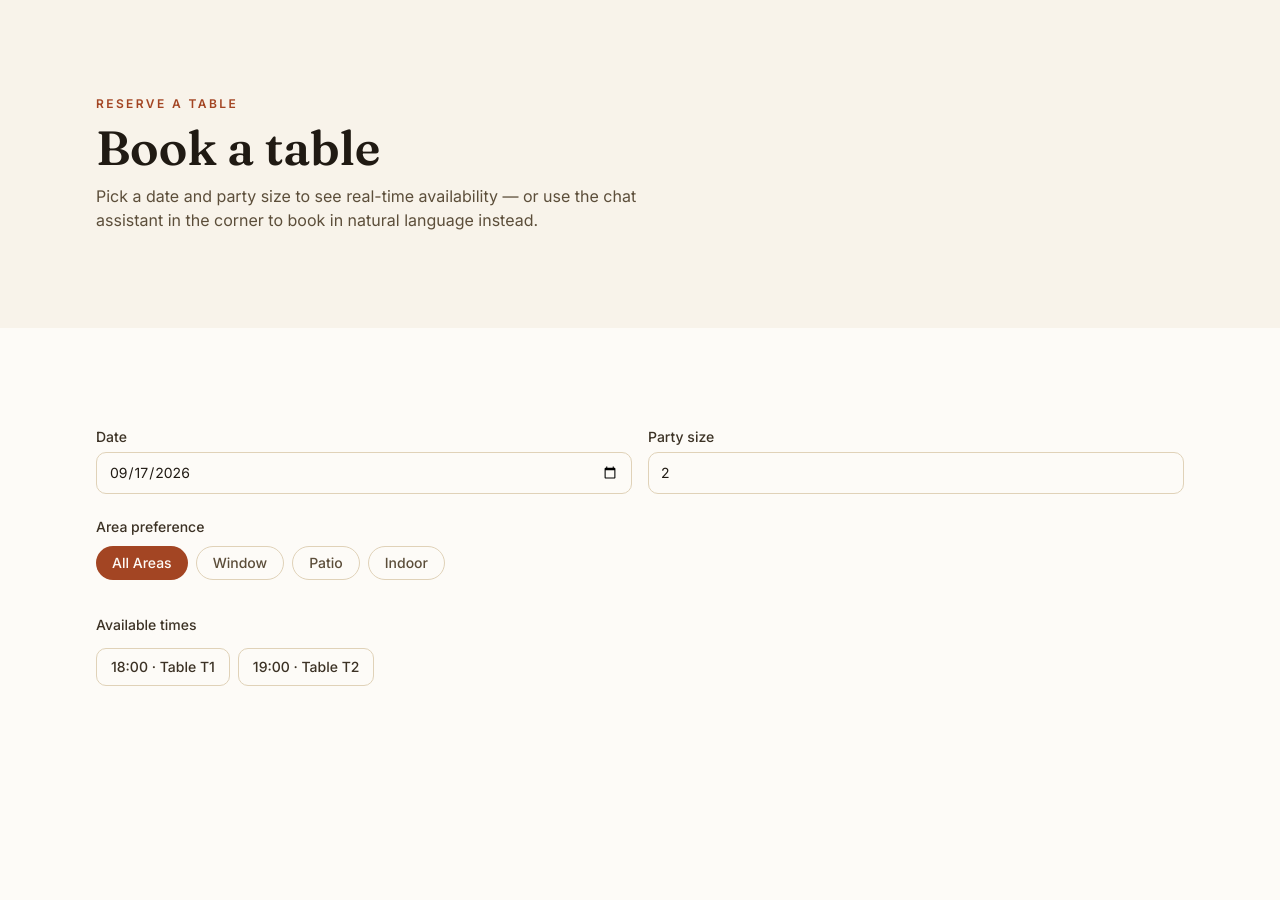
Scenario: Book a table flow › filters slot chips by area preference
Expected: the button "18:00 · Table T1" is shown, [96, 648, 230, 686]
What coordinates should you click on to do the following:
click the button "patio"
I would click on:
 (326, 563)
Its box is [292, 546, 360, 580].
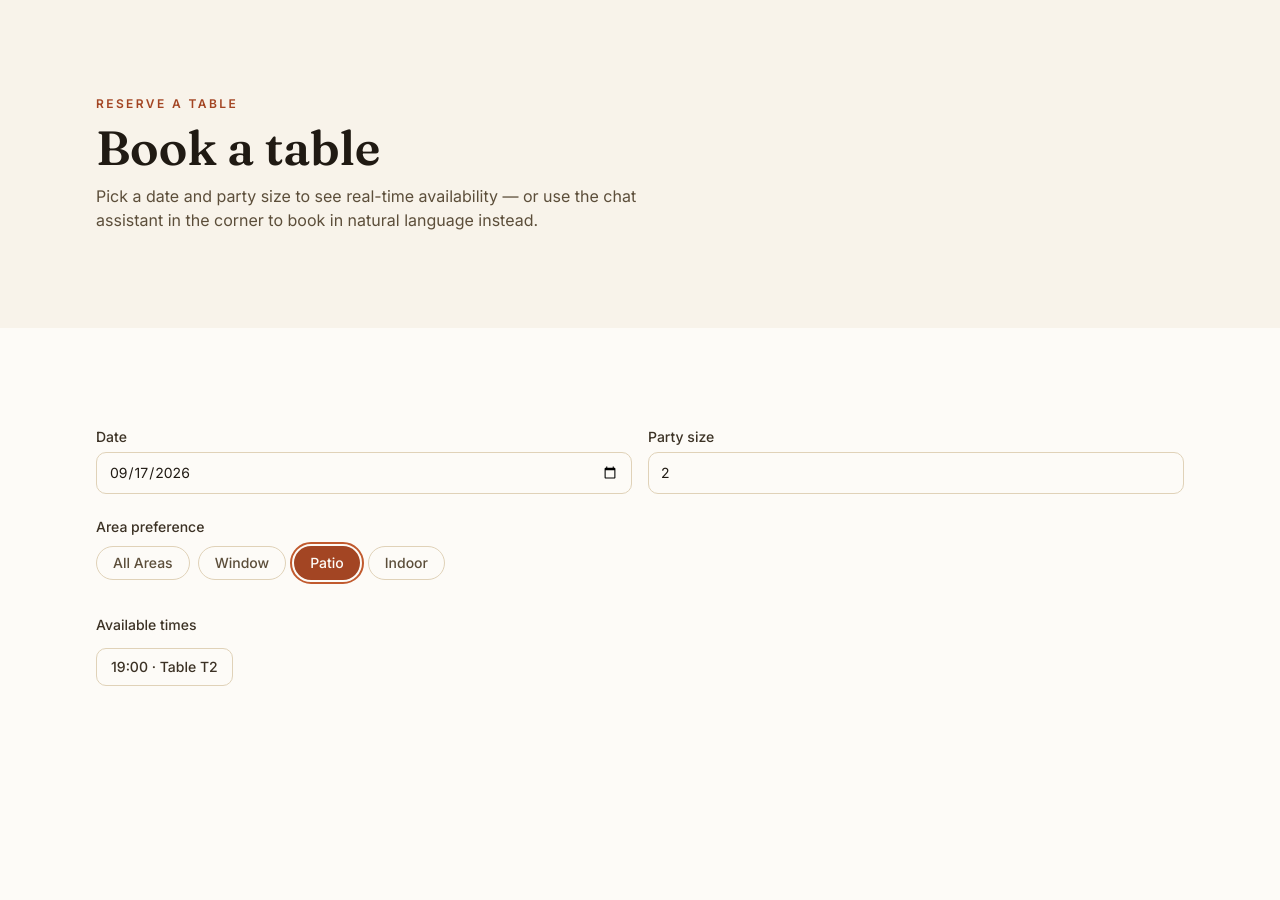
Expected: the button "19:00 · Table T2" is shown, [96, 648, 233, 686]
Now the button "18:00 · Table T1" is gone
